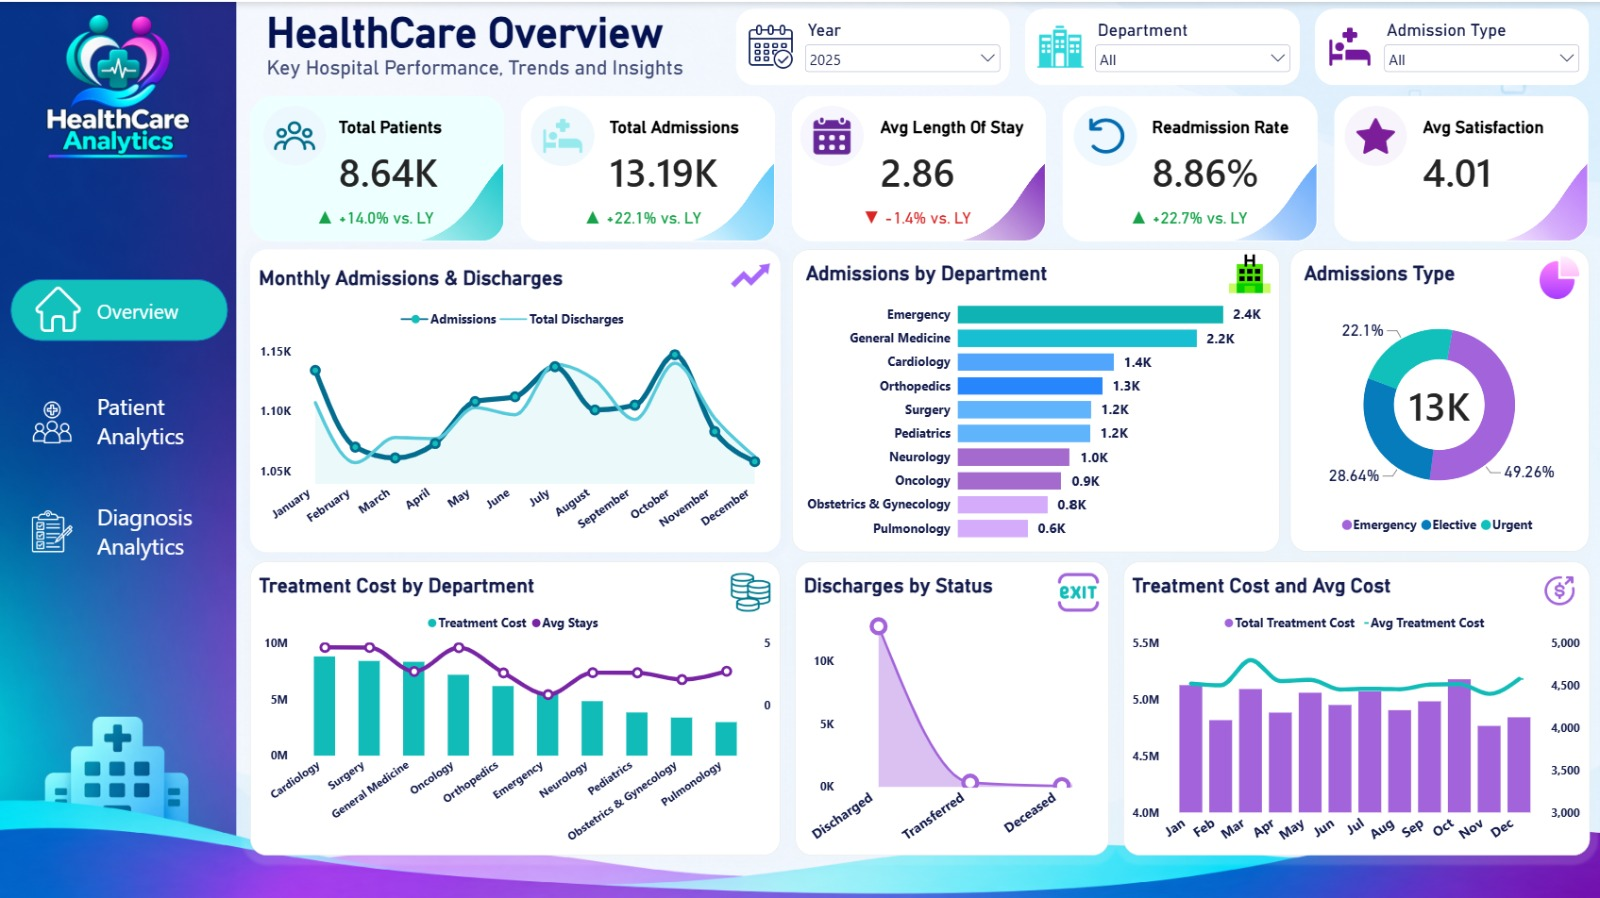

The dashboard page shown, as its layout file describes it:
{"tool":"powerbi","page":{"name":"Overview","canvas":[1920,1080],"ordinal":0},"visuals":[{"type":"shape","box":[14,332,260,74],"z":0,"group":"g13"},{"type":"cardVisual","fields":{"Data":["AA_Measures.Total Patients","AA_Measures.Total Encounter","AA_Measures.Average Length Of Stay","AA_Measures.Readmission Rate","AA_Measures.Avg Satisfaction Score"]},"box":[300,112,1602,174],"z":1000,"group":"g4"},{"type":"image","box":[44,330,54,76],"z":1000,"group":"g12"},{"type":"lineClusteredColumnComboChart","title":"Treatment Cost by Department","fields":{"Category":["Dim_Department.Department"],"Y":["AA_Measures.Total Treatment Cost"],"Y2":["AA_Measures.Avg Length Of Stay"]},"box":[300,670,634,352],"z":1000,"group":"g3"},{"type":"areaChart","title":"Discharges by Status","fields":{"Category":["Fact_Encounter.Discharge_Status"],"Y":["AA_Measures.Admissions"]},"box":[952,670,374,352],"z":1000,"group":"g8"},{"type":"lineClusteredColumnComboChart","title":"Treatment Cost and Avg Cost","fields":{"Category":["Calendar.Month_Name"],"Y":["AA_Measures.Total Treatment Cost"],"Y2":["AA_Measures.Avg Treatment Cost"]},"box":[1344,670,558,352],"z":1000},{"type":"image","box":[1608,124,74,72],"z":2000,"group":"g4"},{"type":"lineChart","title":"Monthly Admissions & Discharges","fields":{"Category":["Calendar.Date.Variation.Date Hierarchy.Month"],"Y":["AA_Measures.Total Encounter","AA_Measures.Total Discharges"]},"box":[300,296,634,362],"z":2000,"group":"g1"},{"type":"pageNavigator","box":[18,304,256,398],"z":2000,"group":"g12"},{"type":"image","box":[36,478,56,50],"z":2000,"group":"g13"},{"type":"image","box":[1284,124,76,72],"z":3000,"group":"g4"},{"type":"image","box":[36,608,56,50],"z":3000,"group":"g13"},{"type":"textbox","box":[320,8,516,100],"z":4000},{"type":"image","box":[958,124,76,72],"z":4000,"group":"g4"},{"type":"image","box":[636,124,76,72],"z":5000,"group":"g4"},{"type":"group","id":"g1","title":"Group 4","box":[300,296,634,362],"z":5000},{"type":"donutChart","title":"Admissions Type","fields":{"Category":["Fact_Encounter.Admission_Type"],"Y":["AA_Measures.Total Encounter"]},"box":[1543.6,296.4,357.7,361.7],"z":5000,"group":"g2"},{"type":"image","box":[315.7,123.9,75,71.4],"z":6000,"group":"g4"},{"type":"group","id":"g2","title":"Group 6","box":[1543.6,296.4,357.7,361.7],"z":6000},{"type":"group","id":"g3","title":"Group 7","box":[300,670,634,352],"z":7000},{"type":"cardVisual","fields":{"Data":["AA_Measures.Admissions YoY Display"]},"box":[666,233,208,51.4],"z":8000,"group":"g4"},{"type":"clusteredBarChart","title":"Admissions by Department","fields":{"Category":["Dim_Department.Department"],"Y":["AA_Measures.Total Encounter"]},"box":[948,296,582,362],"z":8000},{"type":"group","id":"g4","title":"Group 1","box":[300,112,1602,174],"z":9000},{"type":"cardVisual","fields":{"Data":["AA_Measures.Patients YoY Display"]},"box":[346,233,208,51.4],"z":9000,"group":"g4"},{"type":"cardVisual","fields":{"Data":["AA_Measures.Avg Length Of Stay YoY Display"]},"box":[993,233,208,51.4],"z":10000,"group":"g4"},{"type":"image","box":[1470.2,303.1,49.8,46.1],"z":10000},{"type":"shape","box":[882,8,328,92],"z":10500,"group":"g5"},{"type":"shape","box":[1228,8,328,92],"z":10500,"group":"g6"},{"type":"shape","box":[1574,8,328,92],"z":10500,"group":"g7"},{"type":"group","id":"g5","title":"Group 3","box":[882,8,328,92],"z":11000,"group":"g9"},{"type":"group","id":"g6","title":"Group 3","box":[1228,8,328,92],"z":11000,"group":"g11"},{"type":"group","id":"g7","title":"Group 3","box":[1574,8,328,92],"z":11000,"group":"g10"},{"type":"slicer","fields":{"Values":["Calendar.Date.Variation.Date Hierarchy.Year"]},"box":[939.1,15.8,269.1,81.3],"z":11000,"group":"g5"},{"type":"slicer","fields":{"Values":["Dim_Department.Department"]},"box":[1285.1,15.8,269.1,81.3],"z":11000,"group":"g6"},{"type":"slicer","fields":{"Values":["Fact_Encounter.Admission_Type"]},"box":[1631.1,15.8,269.1,81.3],"z":11000,"group":"g7"},{"type":"group","id":"g8","title":"Group 2","box":[952,670,374,352],"z":11000},{"type":"image","box":[896,26,56,56],"z":11500,"group":"g9"},{"type":"image","box":[1242,26,56,56],"z":11500,"group":"g11"},{"type":"image","box":[1588,26,56,56],"z":11500,"group":"g10"},{"type":"cardVisual","fields":{"Data":["AA_Measures.Readmission Rate YoY Display"]},"box":[1318,233,208,51.4],"z":12000,"group":"g4"},{"type":"image","box":[1842,682,48,46],"z":12000},{"type":"group","id":"g9","title":"Group 5","box":[882,8,328,92],"z":13000},{"type":"group","id":"g10","title":"Group 5","box":[1574,8,328,92],"z":14000},{"type":"group","id":"g11","title":"Group 5","box":[1228,8,328,92],"z":15000},{"type":"group","id":"g12","title":"Group 8","box":[18,304,256,398],"z":16000,"group":"g13"},{"type":"group","id":"g13","title":"Group 9","box":[14,304,260,398],"z":16001},{"type":"image","box":[875.8,684,47.3,46],"z":18000,"group":"g3"},{"type":"image","box":[875.9,303.1,46.9,46.1],"z":19000,"group":"g1"},{"type":"image","box":[1842.1,304.4,47.4,51.4],"z":19000,"group":"g2"},{"type":"image","box":[1266,684,48,46],"z":19000,"group":"g8"}]}

Visuals, with their boxes in screenshot pixels (x1, y1, x2, y2), scaled from the page's 1920x1080 canvas onto the 1600x898 screenshot:
shape: locate(12, 276, 228, 338)
cardVisual - AA_Measures.Total Patients x AA_Measures.Total Encounter: locate(250, 93, 1585, 238)
image: locate(37, 274, 82, 338)
"Treatment Cost by Department" lineClusteredColumnComboChart: locate(250, 557, 778, 850)
"Discharges by Status" areaChart: locate(793, 557, 1105, 850)
"Treatment Cost and Avg Cost" lineClusteredColumnComboChart: locate(1120, 557, 1585, 850)
image: locate(1340, 103, 1402, 163)
"Monthly Admissions & Discharges" lineChart: locate(250, 246, 778, 547)
pageNavigator: locate(15, 253, 228, 584)
image: locate(30, 397, 77, 439)
image: locate(1070, 103, 1133, 163)
image: locate(30, 506, 77, 547)
textbox: locate(267, 7, 697, 90)
image: locate(798, 103, 862, 163)
image: locate(530, 103, 593, 163)
"Group 4" group: locate(250, 246, 778, 547)
"Admissions Type" donutChart: locate(1286, 246, 1584, 547)
image: locate(263, 103, 326, 162)
"Group 6" group: locate(1286, 246, 1584, 547)
"Group 7" group: locate(250, 557, 778, 850)
cardVisual - AA_Measures.Admissions YoY Display: locate(555, 194, 728, 236)
"Admissions by Department" clusteredBarChart: locate(790, 246, 1275, 547)
"Group 1" group: locate(250, 93, 1585, 238)
cardVisual - AA_Measures.Patients YoY Display: locate(288, 194, 462, 236)
cardVisual - AA_Measures.Avg Length Of Stay YoY Display: locate(828, 194, 1001, 236)
image: locate(1225, 252, 1267, 290)
shape: locate(735, 7, 1008, 83)
shape: locate(1023, 7, 1297, 83)
shape: locate(1312, 7, 1585, 83)
"Group 3" group: locate(735, 7, 1008, 83)
"Group 3" group: locate(1023, 7, 1297, 83)
"Group 3" group: locate(1312, 7, 1585, 83)
slicer - Calendar.Date.Variation.Date Hierarchy.Year: locate(783, 13, 1007, 81)
slicer - Dim_Department.Department: locate(1071, 13, 1295, 81)
slicer - Fact_Encounter.Admission_Type: locate(1359, 13, 1584, 81)
"Group 2" group: locate(793, 557, 1105, 850)
image: locate(747, 22, 793, 68)
image: locate(1035, 22, 1082, 68)
image: locate(1323, 22, 1370, 68)
cardVisual - AA_Measures.Readmission Rate YoY Display: locate(1098, 194, 1272, 236)
image: locate(1535, 567, 1575, 605)
"Group 5" group: locate(735, 7, 1008, 83)
"Group 5" group: locate(1312, 7, 1585, 83)
"Group 5" group: locate(1023, 7, 1297, 83)
"Group 8" group: locate(15, 253, 228, 584)
"Group 9" group: locate(12, 253, 228, 584)
image: locate(730, 569, 769, 607)
image: locate(730, 252, 769, 290)
image: locate(1535, 253, 1575, 296)
image: locate(1055, 569, 1095, 607)
